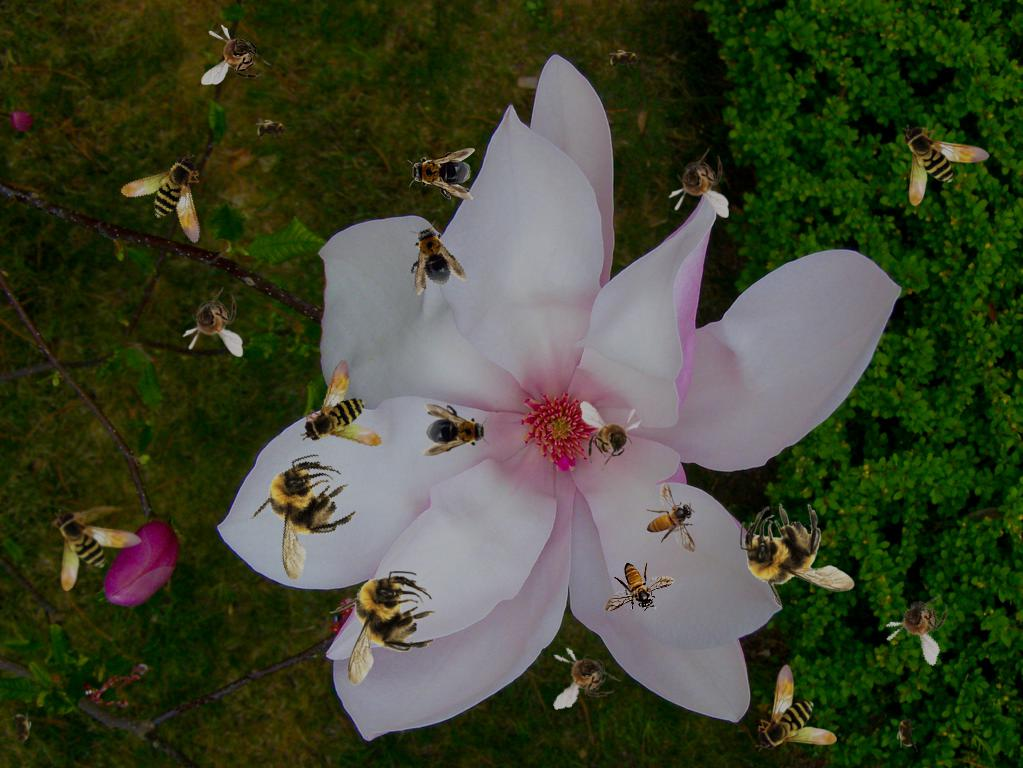Bee: (234, 445, 373, 590), (116, 149, 226, 263), (329, 571, 436, 686), (740, 503, 855, 610), (298, 353, 396, 455), (877, 579, 960, 667), (902, 124, 990, 206), (755, 664, 837, 752), (54, 509, 142, 591), (396, 216, 468, 298), (545, 639, 624, 711), (580, 400, 643, 472), (668, 148, 729, 218), (182, 287, 243, 357), (201, 24, 271, 85), (604, 562, 675, 612), (646, 482, 696, 553), (407, 148, 475, 200), (422, 404, 490, 456), (10, 709, 32, 749), (896, 712, 918, 752), (605, 49, 645, 71), (252, 119, 292, 141)
